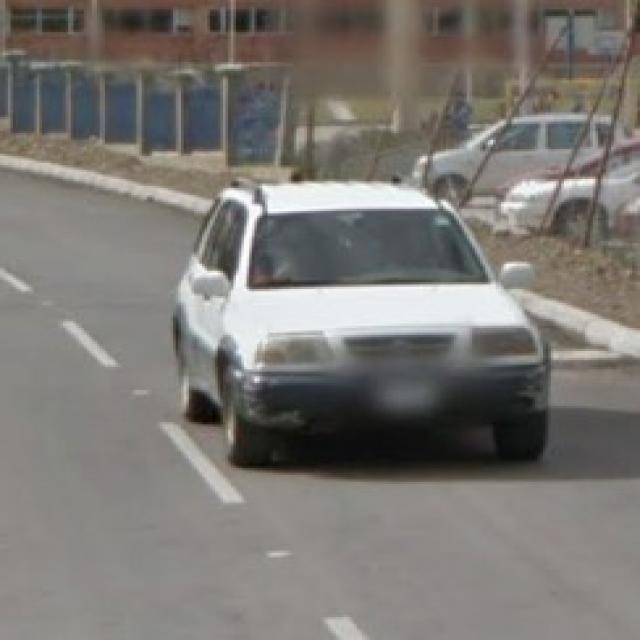cars: (180, 184, 560, 461)
